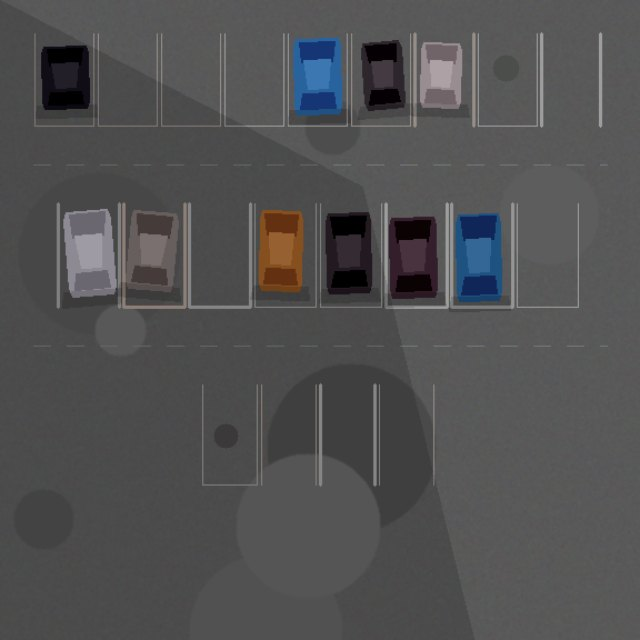space-empty: (189, 203, 250, 307), (517, 203, 578, 307), (202, 384, 257, 484), (261, 384, 316, 484), (98, 33, 157, 126), (161, 33, 220, 126), (224, 33, 283, 126), (478, 33, 537, 126), (541, 33, 600, 126), (320, 384, 374, 484), (379, 384, 433, 484)
space-occupied: (254, 203, 316, 307), (58, 203, 119, 307), (123, 203, 184, 307), (320, 203, 381, 307), (386, 203, 447, 307), (451, 203, 512, 307), (34, 33, 93, 126), (288, 33, 347, 126), (351, 33, 410, 126), (414, 33, 473, 126)
